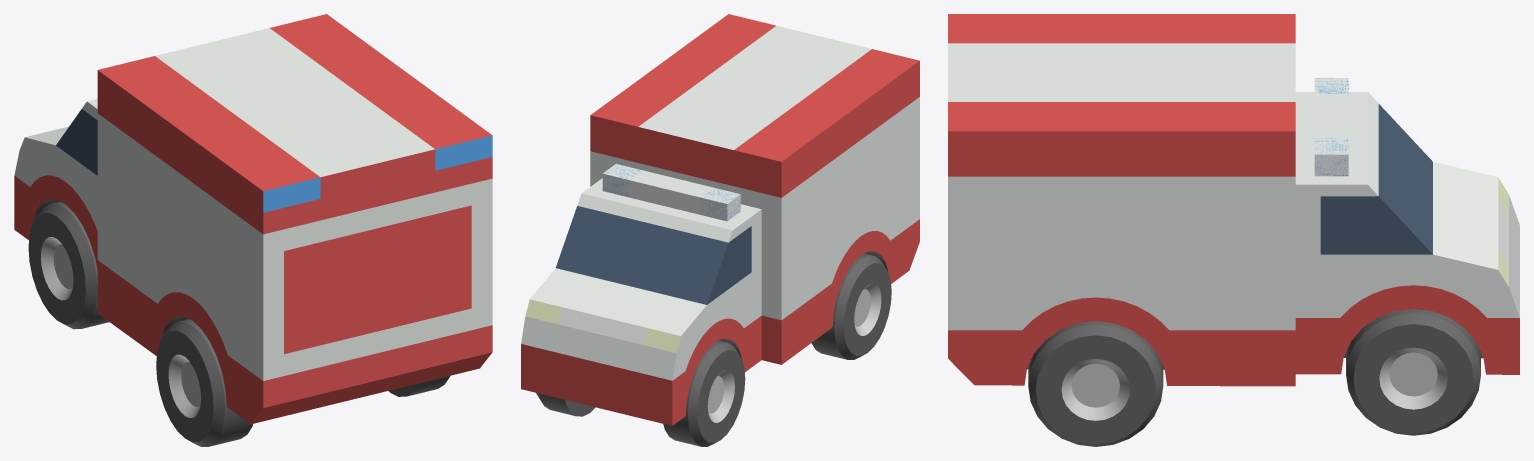
The model's file is carAmbulance.obj.
3 renders of one model, left to right at view 1: azimuth 30°, elevation 25°; view 2: azimuth 150°, elevation 25°; view 3: azimuth 270°, elevation 25°, orthographic. The views are drawn at different scales.
Parts seen in each view (by area): view 1: body, wheelBackLeft, wheelFrontLeft, wheelBackRight; view 2: body, wheelBackLeft, wheelFrontLeft, wheelFrontRight; view 3: body, wheelFrontRight, wheelBackRight.
Part boxes in pixels (x1,y1,x2,y2): body: (14, 14, 492, 424); wheelBackLeft: (156, 319, 252, 446); wheelFrontLeft: (28, 201, 109, 329); wheelBackRight: (389, 375, 450, 396); body: (521, 14, 919, 425); wheelBackLeft: (811, 253, 891, 359); wheelFrontLeft: (663, 340, 745, 446); wheelFrontRight: (536, 393, 595, 416); body: (948, 14, 1519, 386); wheelFrontRight: (1346, 309, 1480, 435); wheelBackRight: (1028, 321, 1163, 446).
Size of the model in its own units: 6.15 by 7.27 by 11.85.
